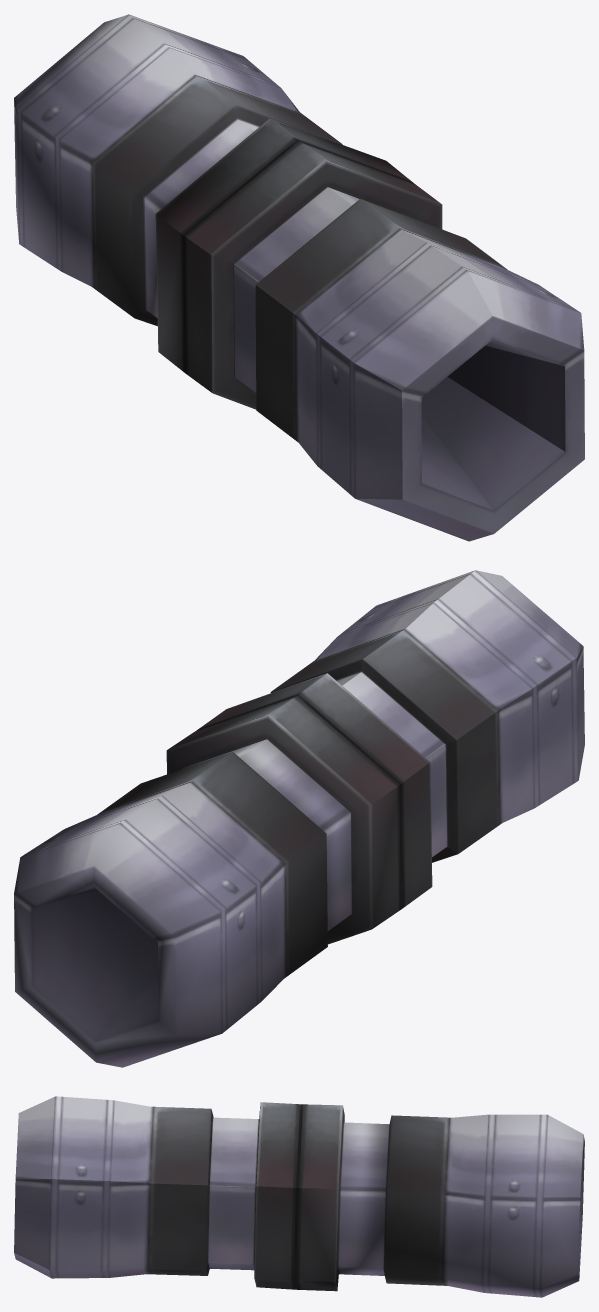
The model's file is pet_205_02.FBX.
3 renders of one model, top to bottom at view 1: azimuth 30°, elevation 25°; view 2: azimuth 150°, elevation 25°; view 3: azimuth 270°, elevation 25°, orthographic. The views are drawn at different scales.
Parts seen in each view (by area): view 1: pet_205_wuqi001; view 2: pet_205_wuqi001; view 3: pet_205_wuqi001.
Boxes of the visible parts, box(x1,y1,x2,y2) form: pet_205_wuqi001: box(14, 14, 584, 541); pet_205_wuqi001: box(14, 570, 584, 1067); pet_205_wuqi001: box(14, 1096, 584, 1297).
Bounding box in the file's own units: 11.88 × 13.01 × 34.87.
